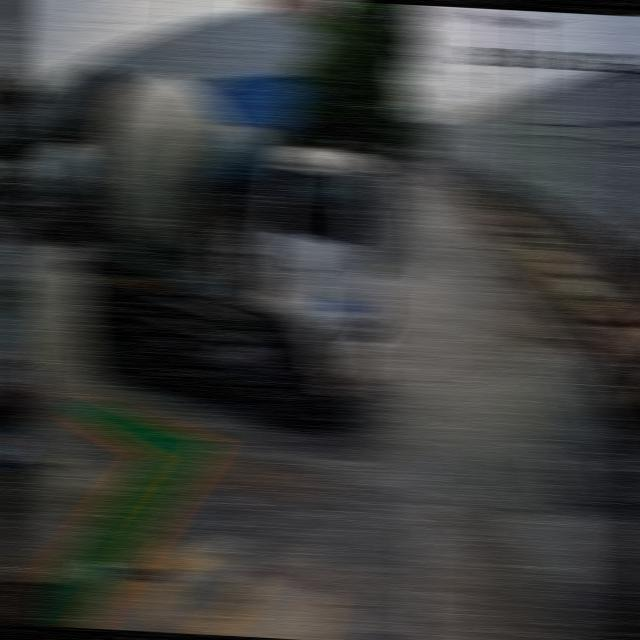cement_mixer_truck: (66, 65, 399, 428), (31, 144, 94, 244), (15, 168, 46, 232), (0, 157, 46, 195)
